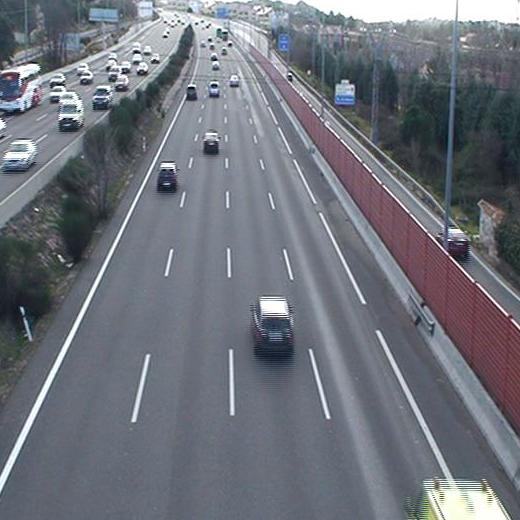car: (250, 297, 294, 356), (156, 162, 179, 191), (203, 132, 220, 154), (187, 85, 197, 100), (229, 74, 240, 86), (212, 60, 221, 69)
van: (209, 82, 221, 98)
